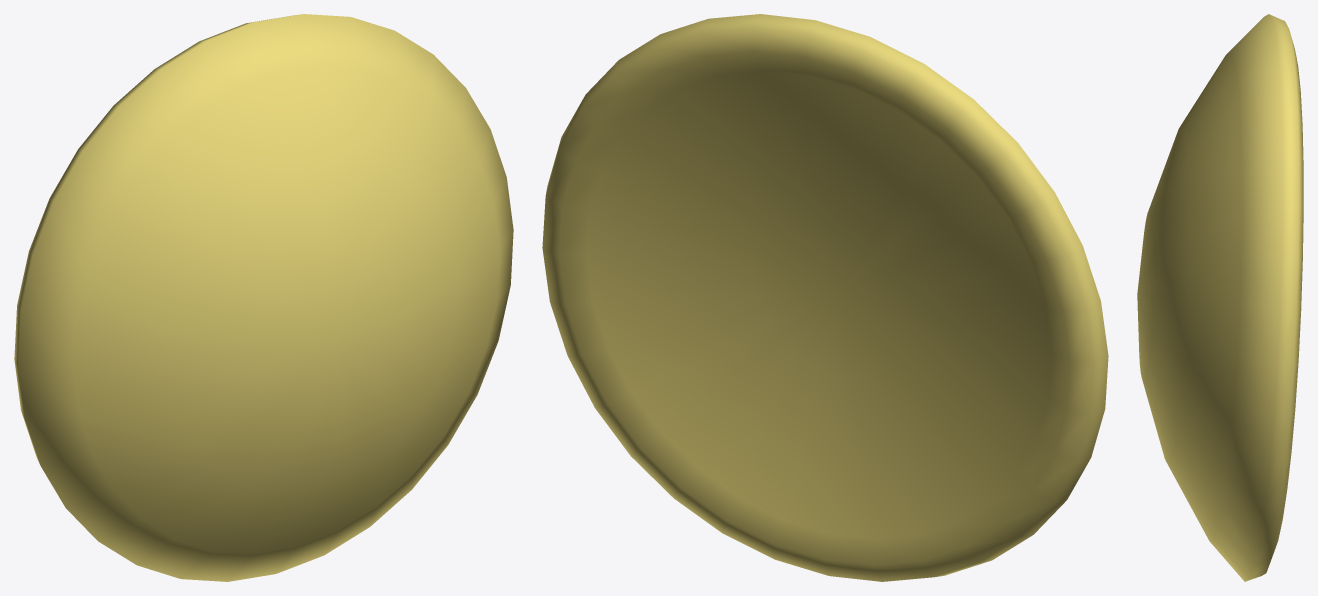
File: anterior-chamber-of-eyeball-l.glb
The picture shows the model from 3 angles, left to right: view 1: azimuth 30°, elevation 25°; view 2: azimuth 150°, elevation 25°; view 3: azimuth 270°, elevation 25°; orthographic projection. The views are drawn at different scales.
Visible parts, largest first — view 1: Anterior chamber of eyeball.l; view 2: Anterior chamber of eyeball.l; view 3: Anterior chamber of eyeball.l.
Part boxes in pixels (bbox=[...]): Anterior chamber of eyeball.l: bbox=[14, 14, 513, 581]; Anterior chamber of eyeball.l: bbox=[542, 14, 1108, 581]; Anterior chamber of eyeball.l: bbox=[1137, 14, 1303, 581].
Bounding box in the file's own units: 0.0131 × 0.0131 × 0.00383.
